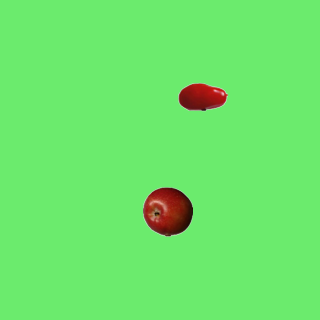Apple Braeburn: (142, 186, 192, 236)
Tomato 2: (177, 71, 227, 121)
